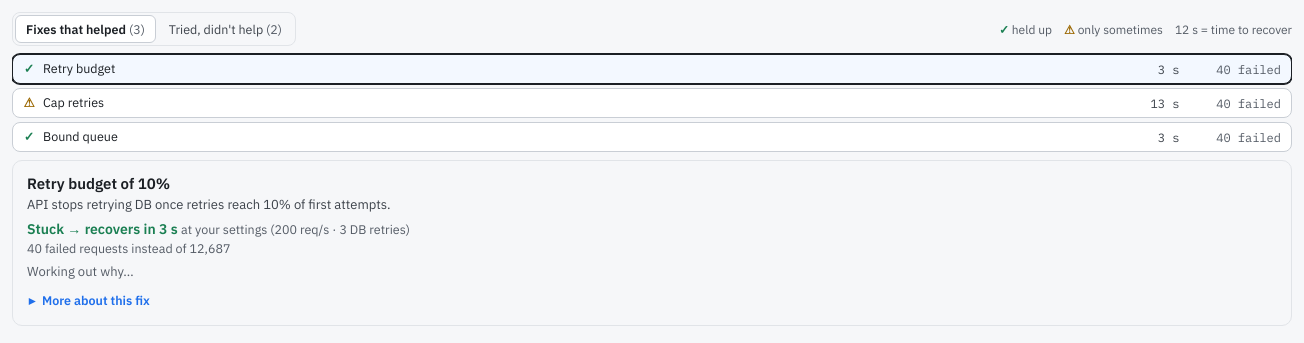
Test case: FixTabs views: fixes that helped, and the ones tried that did not › splits the fixes by whether they helped, fully or partly, and shows the helped ones first
Check: the element named "Fixes that helped" is shown, box x1=12 y1=54 x2=1292 y2=152
Click the button "Tried, didn't help (2)". click: (226, 29)
box: x1=158 y1=15 x2=293 y2=43
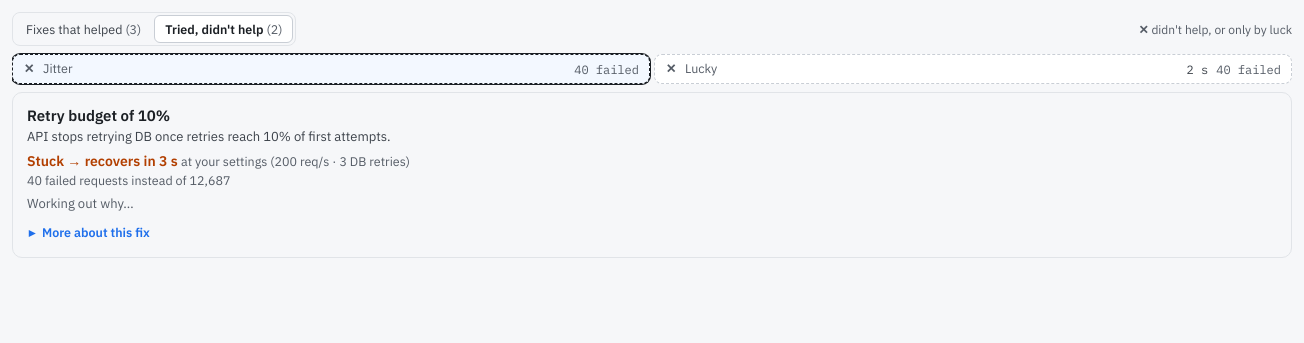
Check: the element named "Fixes that didn't help" is shown, box x1=12 y1=54 x2=1292 y2=84
